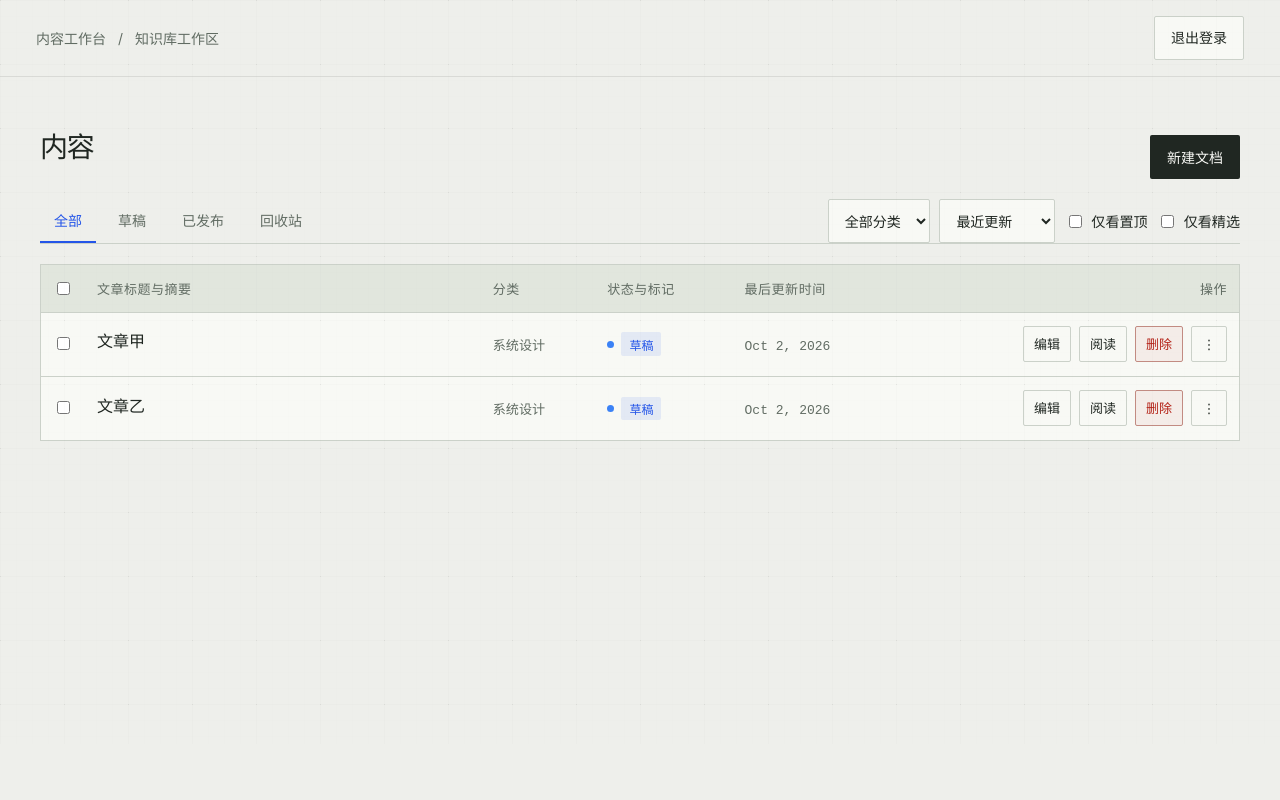
preserves other batch failures after retrying one deleted article
This screenshot has width=1280, height=800.
Expected: the checkbox named "选择文章 文章甲" is shown, [57,337,70,350]
Click the checkbox named "全选当前页文章": {"x": 64, "y": 288} [57,282,70,295]
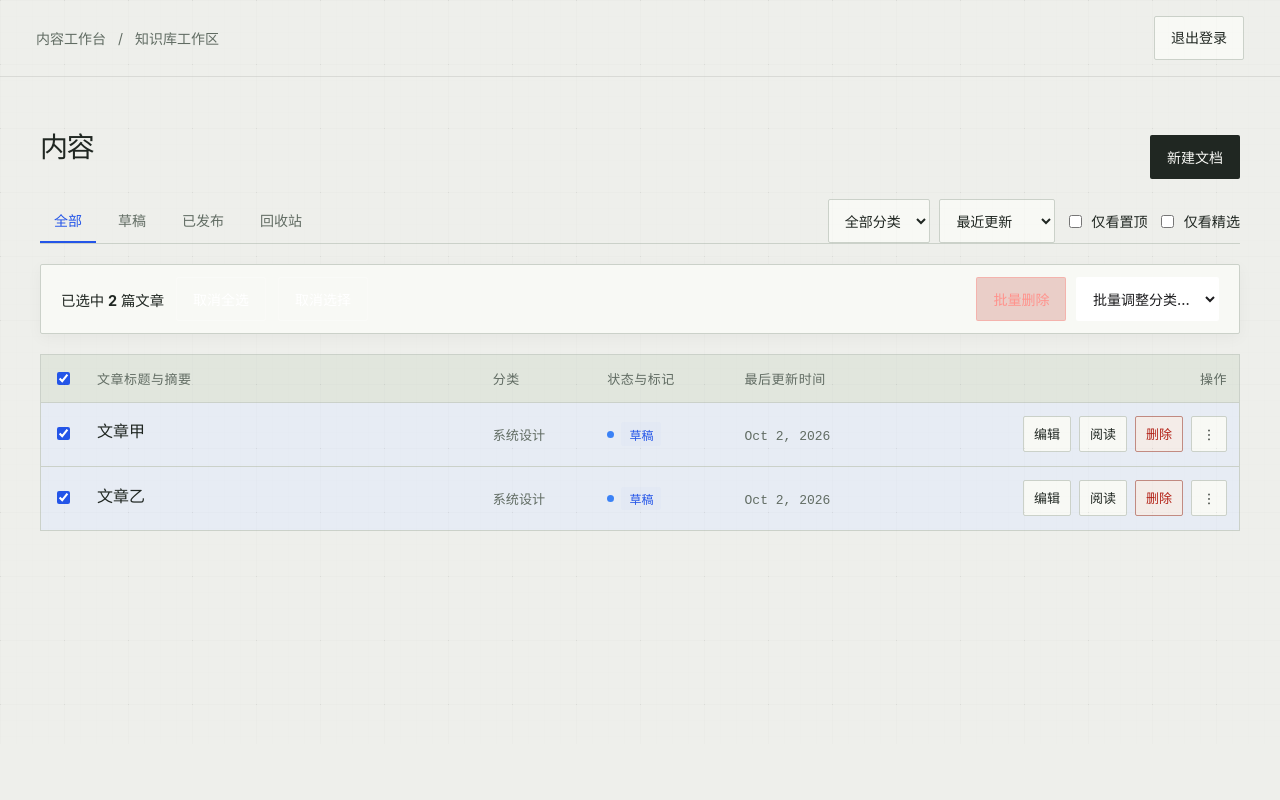
Click the button "批量删除": {"x": 1021, "y": 299} [976,277,1066,321]
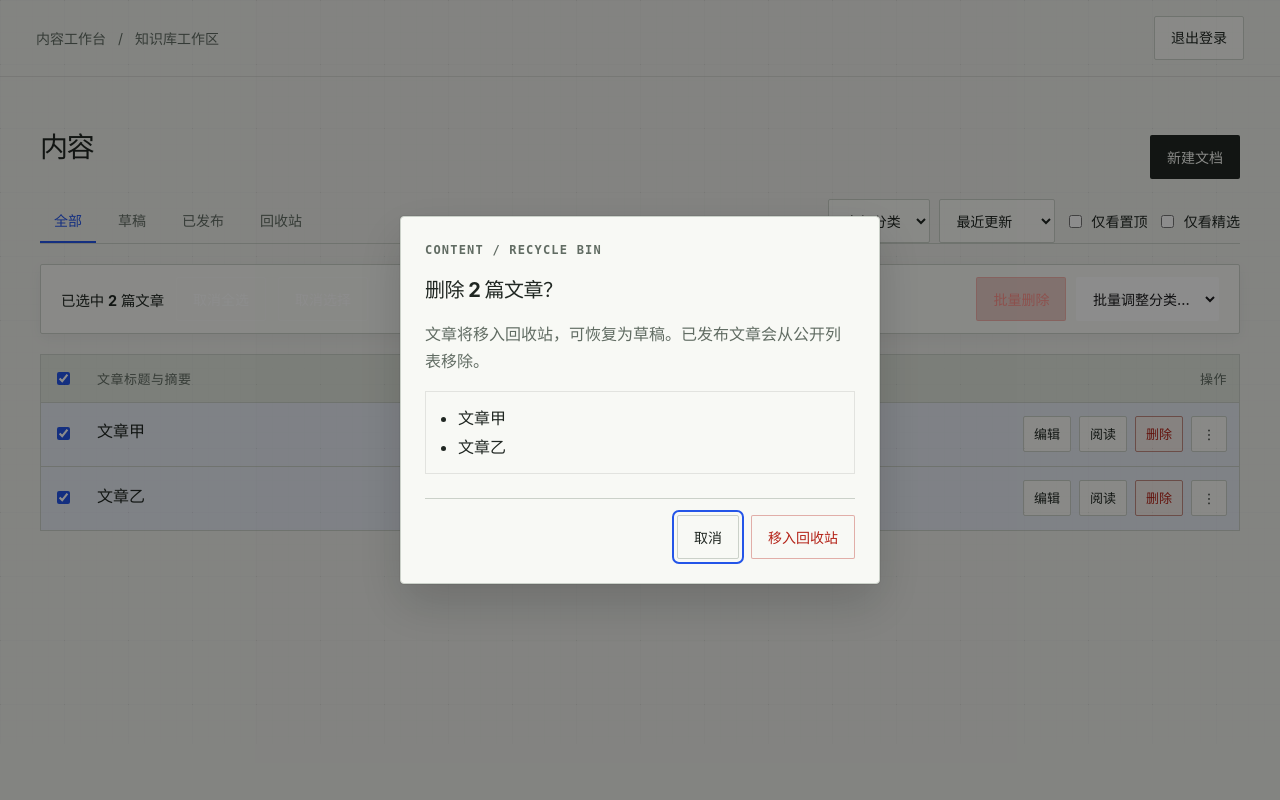
Click the button "移入回收站": {"x": 803, "y": 538} [751,516,855,560]
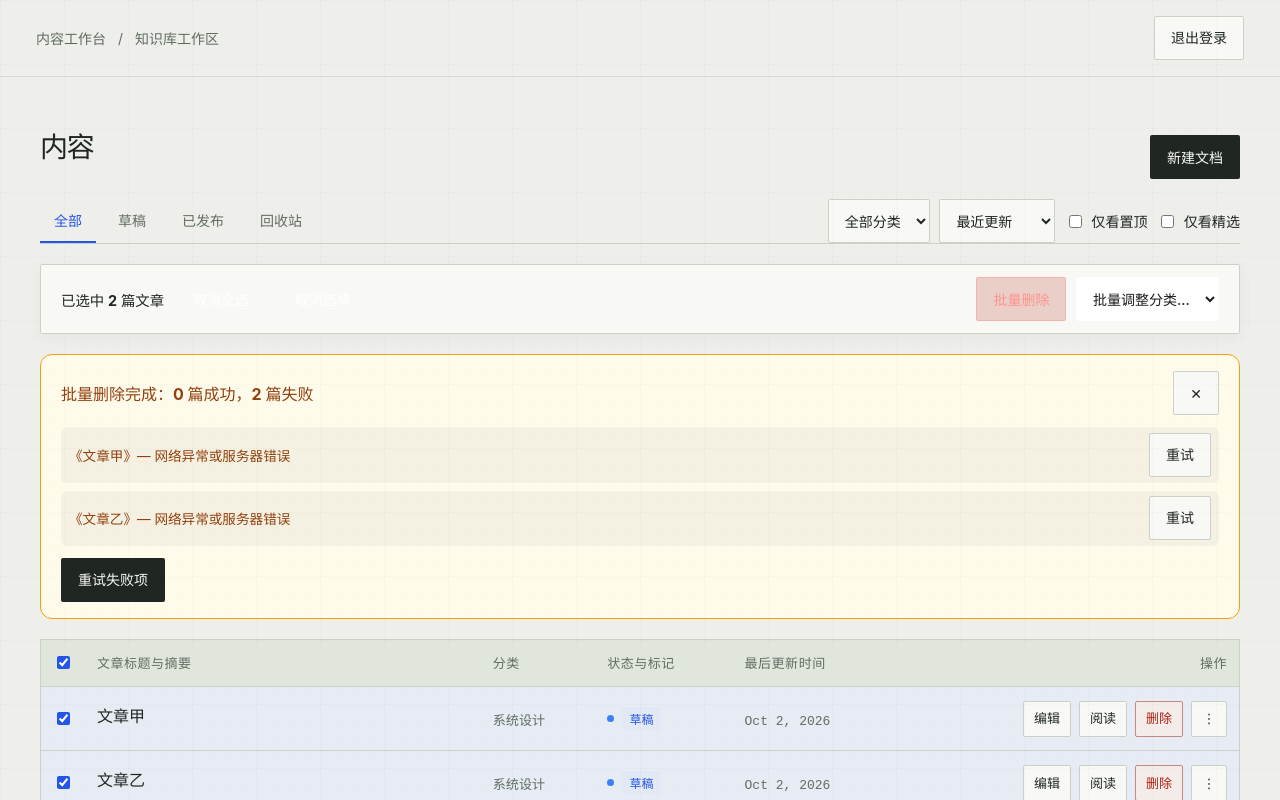
Expected: the text "批量删除完成：0 篇成功，2 篇失败" is shown, [61,381,314,405]
Expected: the dialog is gone
Click the 1st button "重试": {"x": 1180, "y": 455} [1149,433,1211,477]
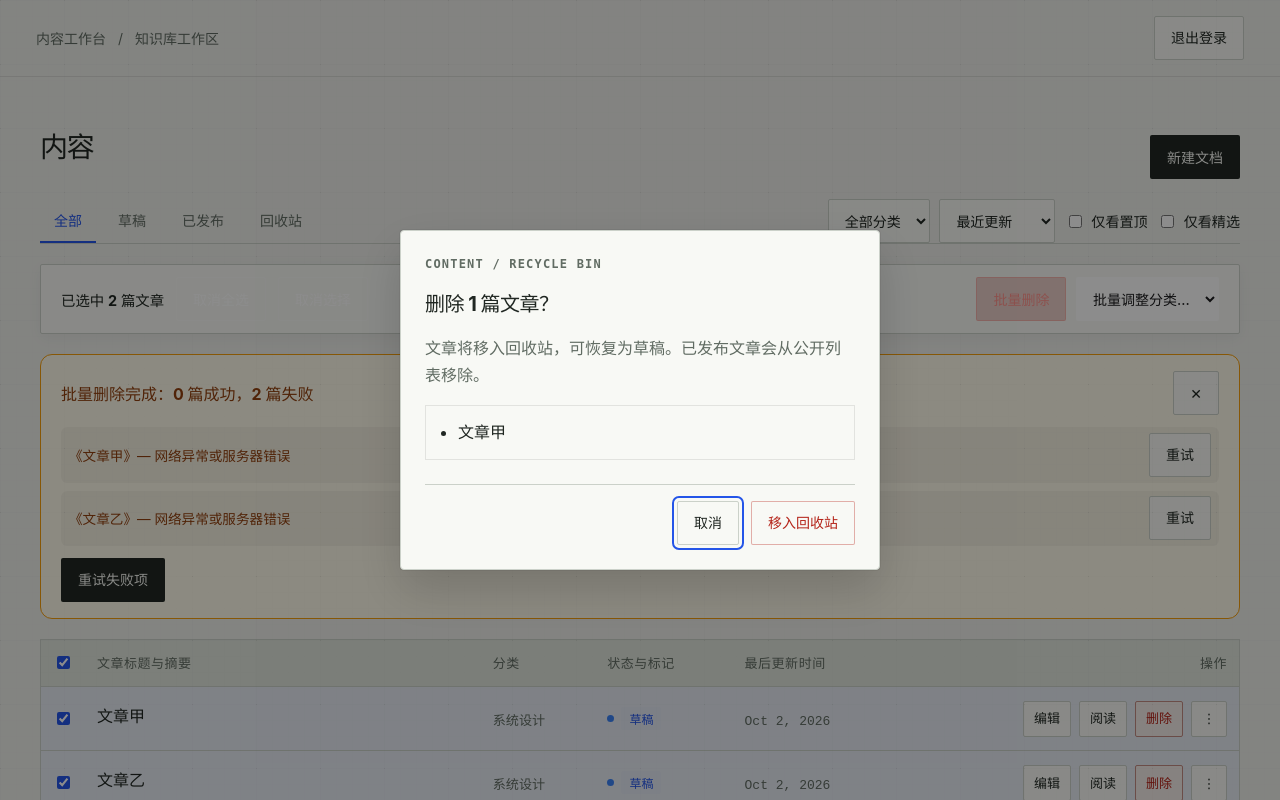
Click the button "移入回收站": {"x": 803, "y": 523} [751,501,855,545]
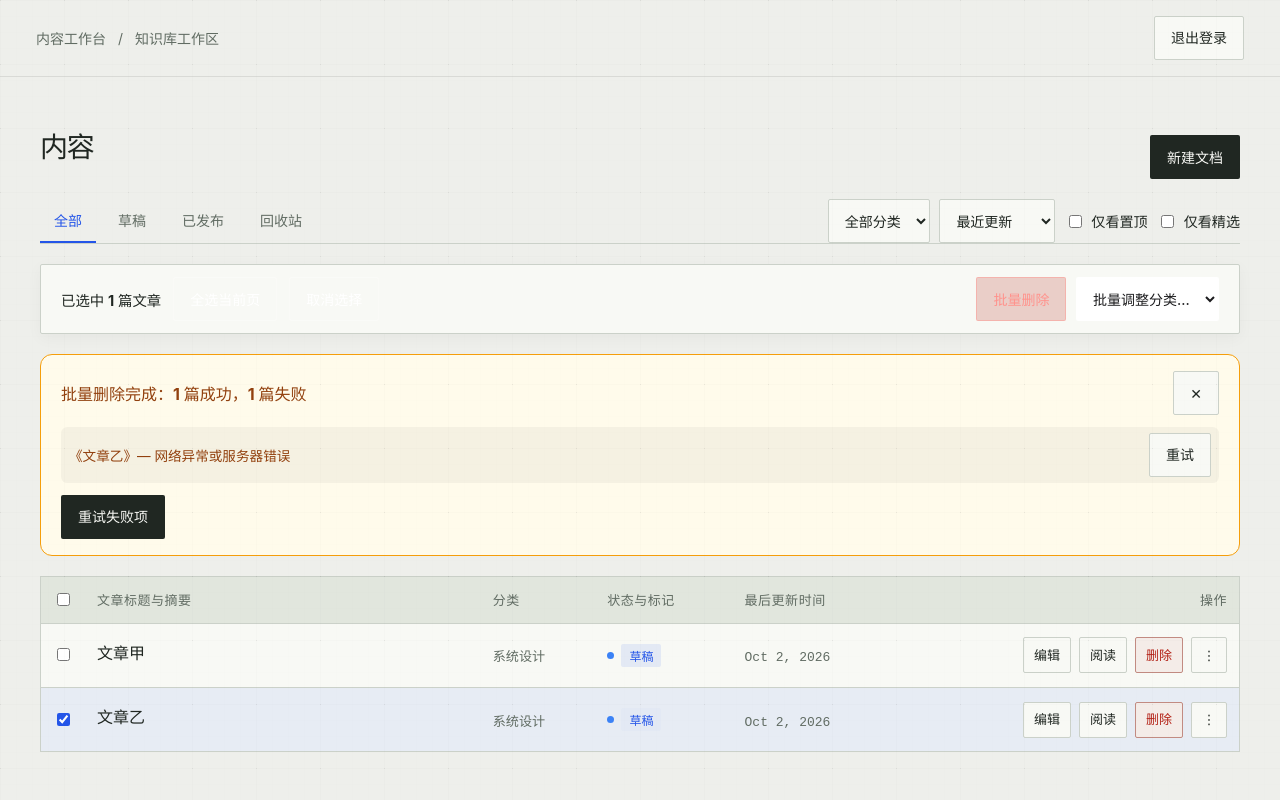
Expected: the text "《文章乙》— 网络异常或服务器错误" is shown, [69,445,290,465]
Expected: the text "批量删除完成：1 篇成功，1 篇失败" is shown, [61,381,306,405]
